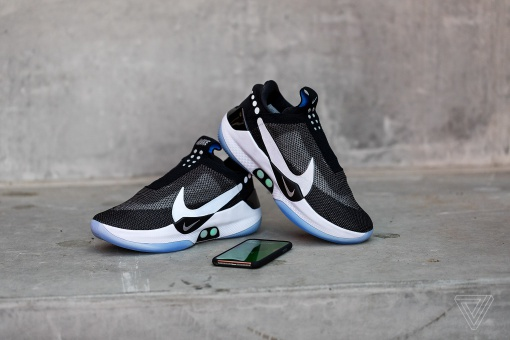nike: (254, 111, 319, 197), (169, 181, 247, 229)
